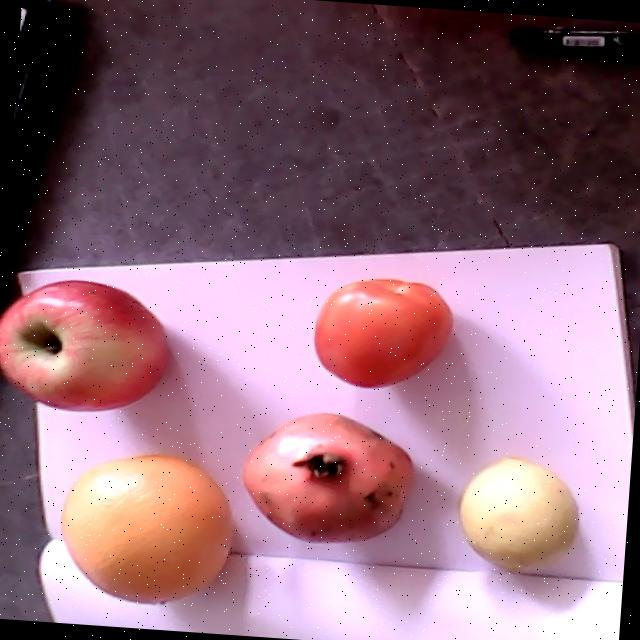apple: (0, 279, 170, 411)
lemon: (460, 456, 574, 572)
orange: (62, 453, 233, 603)
pomegranate: (242, 412, 411, 542)
tomato: (314, 277, 454, 387)
